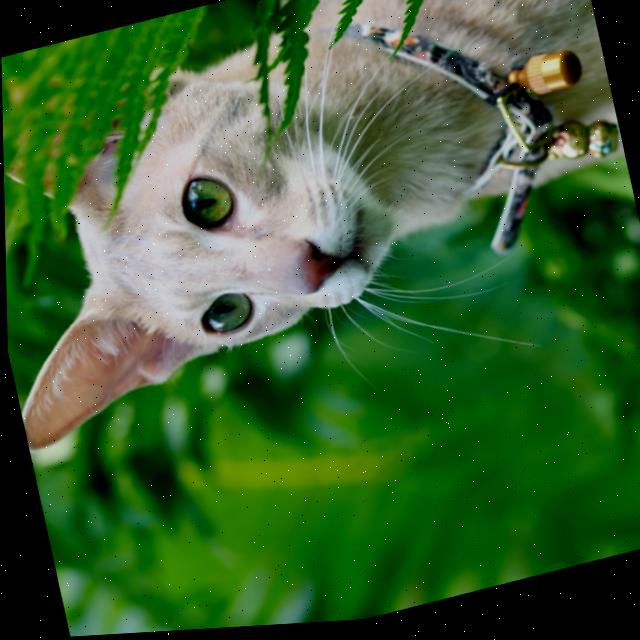Oriental: (0, 0, 640, 456)
